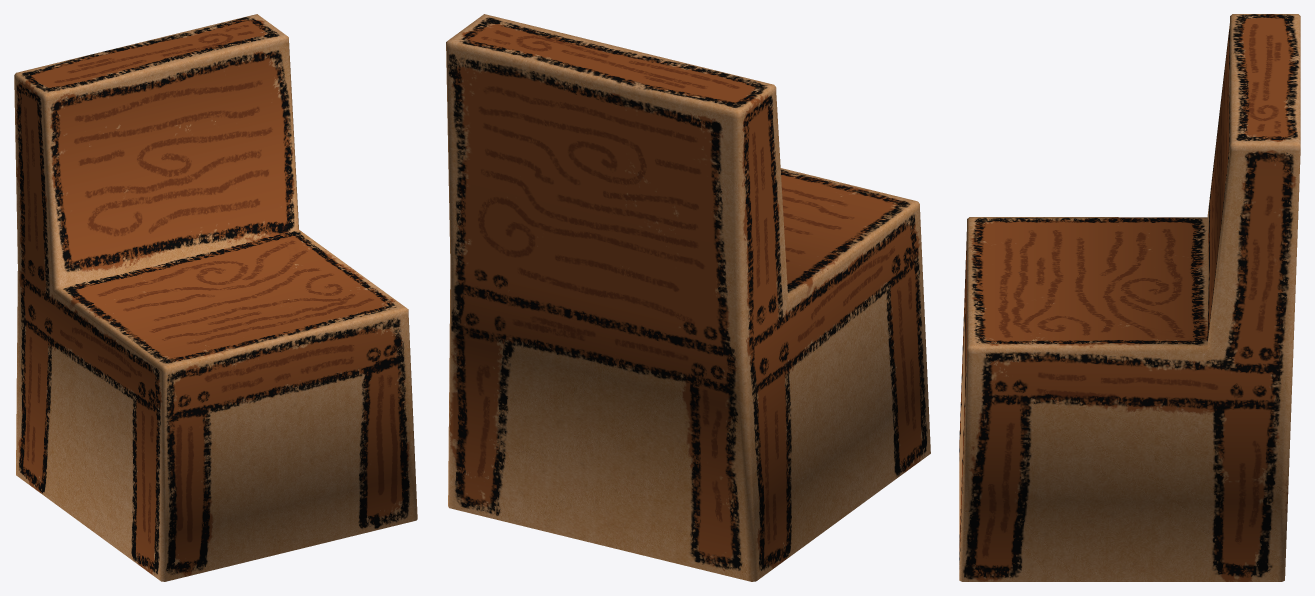
The model's file is 20s_Chair.fbx.
The picture shows the model from 3 angles, left to right: view 1: azimuth 30°, elevation 25°; view 2: azimuth 150°, elevation 25°; view 3: azimuth 270°, elevation 25°; orthographic projection. The views are drawn at different scales.
Visible parts, largest first — view 1: Chair; view 2: Chair; view 3: Chair.
Boxes of the visible parts, box(x1,y1,x2,y2) form: Chair: box(14, 14, 417, 581); Chair: box(446, 14, 930, 581); Chair: box(959, 14, 1300, 581).
Size of the model in its own units: 130 by 191 by 136.
